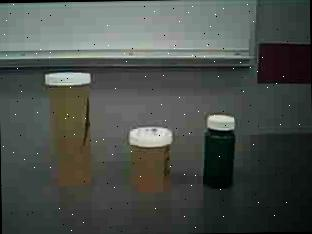Bottle A: (41, 67, 107, 192)
Bottle B: (125, 119, 178, 200)
Bottle C: (192, 108, 247, 198)
